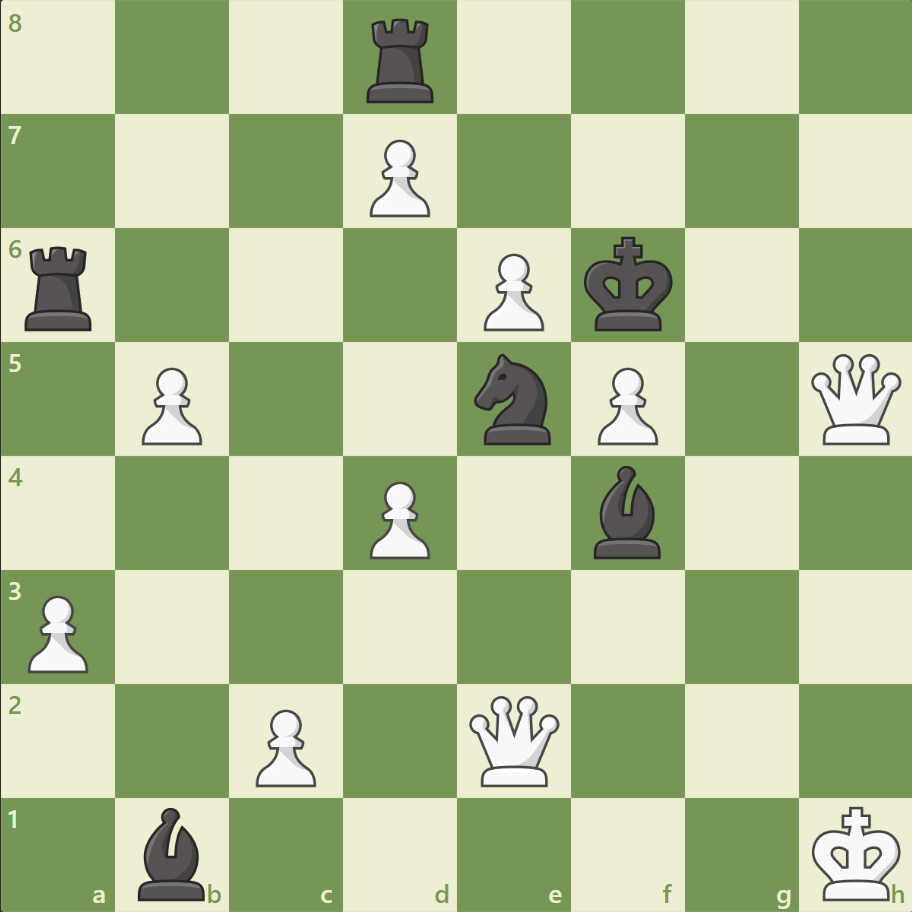K: (806, 798, 906, 906)
P: (474, 246, 549, 337), (133, 359, 208, 450), (20, 586, 95, 677), (247, 700, 322, 791), (361, 132, 435, 223), (588, 359, 662, 450), (361, 473, 435, 564)
Q: (805, 349, 904, 449), (464, 690, 563, 789)
b: (585, 460, 669, 563), (131, 801, 215, 904)
k: (579, 231, 679, 339)
n: (465, 348, 562, 450)
r: (19, 239, 102, 336), (360, 12, 442, 109)
